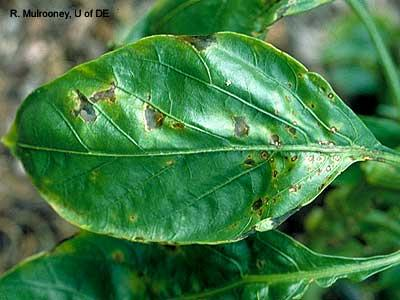Bell_pepper leaf: (2, 28, 374, 246)
